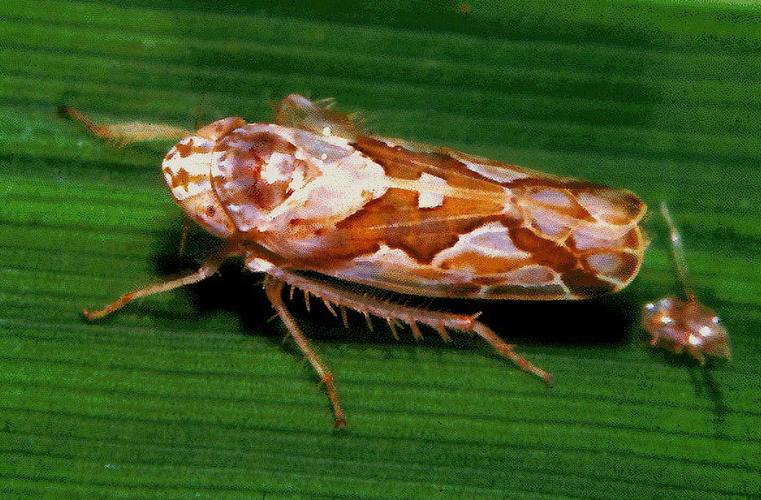Cicadellidae: (59, 92, 647, 431)
